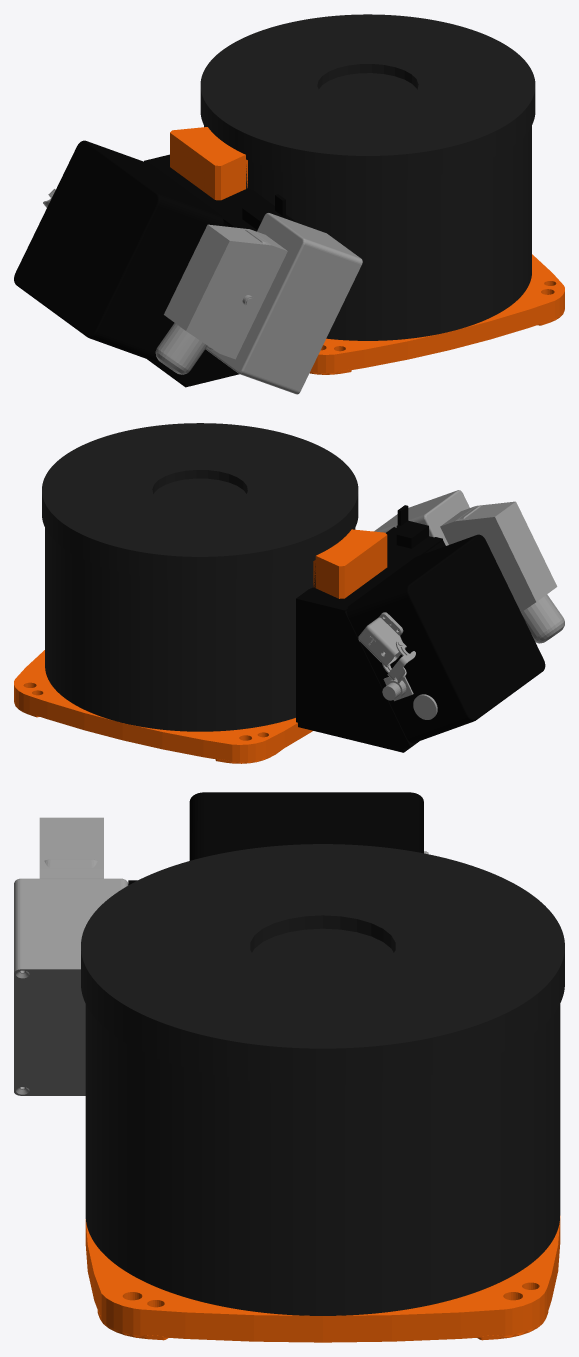
The picture shows the model from 3 angles, top to bottom: view 1: azimuth 30°, elevation 25°; view 2: azimuth 150°, elevation 25°; view 3: azimuth 270°, elevation 25°; orthographic projection. The views are drawn at different scales.
Parts seen in each view (by area): view 1: node2, node3, node0, node1; view 2: node2, node3, node1, node0; view 3: node2, node0, node1, node3.
Boxes of the visible parts, x1=… form: node2: x1=200, y1=14, x2=535, y2=340; node3: x1=14, y1=140, x2=296, y2=387; node0: x1=43, y1=189, x2=362, y2=394; node1: x1=170, y1=127, x2=564, y2=374; node2: x1=42, y1=423, x2=358, y2=731; node3: x1=296, y1=505, x2=545, y2=752; node1: x1=14, y1=529, x2=387, y2=763; node0: x1=358, y1=490, x2=564, y2=719; node2: x1=81, y1=844, x2=564, y2=1315; node0: x1=14, y1=817, x2=428, y2=1095; node1: x1=85, y1=1216, x2=560, y2=1342; node3: x1=128, y1=792, x2=423, y2=885.
Bounding box in the file's own units: 0.5324 × 0.3763 × 0.225.
